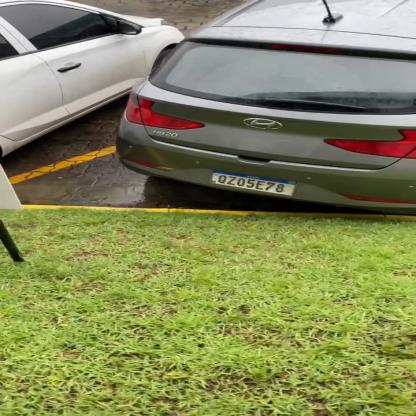Plate: (210, 165, 308, 199)
